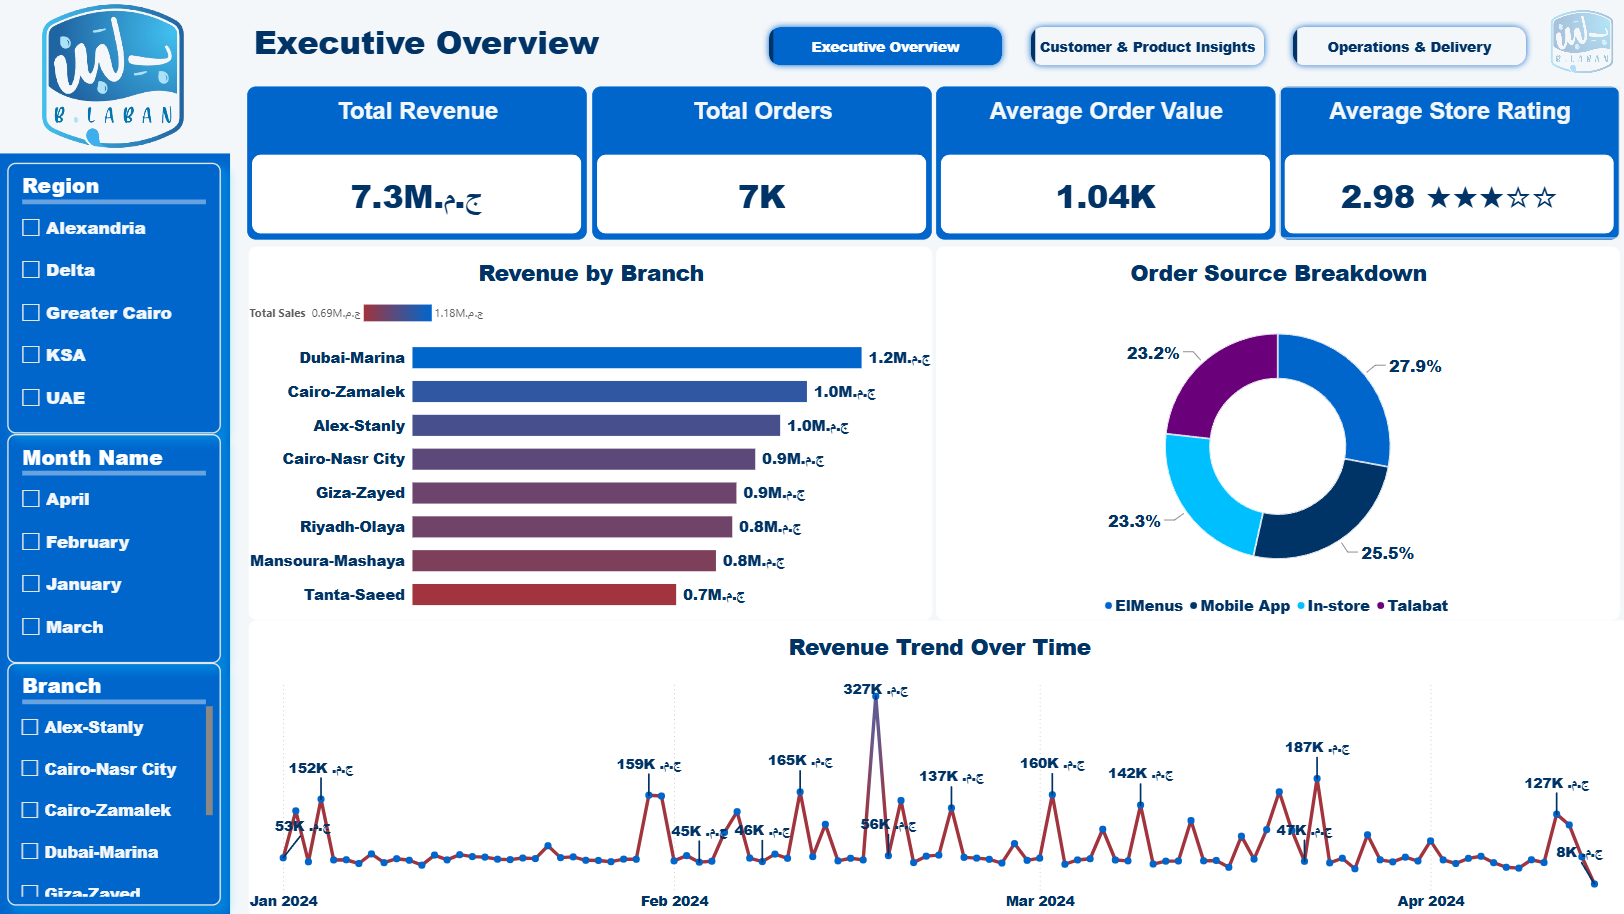

Layout of this report page (visuals, bound fields, positions):
{"tool":"powerbi","page":{"name":"Executive Overview","canvas":[1920,1080],"ordinal":0},"visuals":[{"type":"shape","box":[0,181.4,275.6,898.3],"z":0},{"type":"image","box":[0,0,275.6,181.4],"z":1000},{"type":"image","box":[1808.7,10.5,111.6,80.2],"z":2000},{"type":"textbox","box":[275.6,19.2,462.2,73.3],"z":3000},{"type":"cardVisual","title":"Total Revenue","fields":{"Data":["_All Measure.Total Sales"]},"box":[296.1,103,399.4,179.7],"z":4000},{"type":"cardVisual","title":"Total Orders","fields":{"Data":["_All Measure.Total Orders"]},"box":[700.7,103,399.4,179.7],"z":5000},{"type":"cardVisual","title":"Average Order Value","fields":{"Data":["_All Measure.Average Order Value"]},"box":[1105.4,103,399,179.7],"z":6000},{"type":"cardVisual","title":"Average Store Rating","fields":{"Data":["_All Measure.Rating Stars"]},"box":[1510,103,399,179.7],"z":7000},{"type":"clusteredBarChart","title":"Revenue by Branch","fields":{"Category":["blaban_cleaned_final.Branch"],"Y":["_All Measure.Total Sales"]},"box":[296.5,291.3,804.1,439.5],"z":8000},{"type":"donutChart","title":"Order Source Breakdown","fields":{"Category":["blaban_cleaned_final.Order_Source"],"Y":["_All Measure.Total Sales"]},"box":[1105.8,291.3,804.1,439.5],"z":9000},{"type":"lineChart","title":"Revenue Trend Over Time","fields":{"Y":["_All Measure.Total Sales"],"Category":["blaban_cleaned_final.Full_Date"]},"box":[296.7,729.9,1623.8,348.8],"z":10000},{"type":"slicer","fields":{"Values":["blaban_cleaned_final.Region"]},"box":[12.7,192.9,251.2,318.5],"z":11000},{"type":"slicer","fields":{"Values":["blaban_cleaned_final.Month Name"]},"box":[12.7,511.5,251.2,269.4],"z":12000},{"type":"slicer","fields":{"Values":["blaban_cleaned_final.Branch"]},"box":[12.7,780.9,251.2,285.8],"z":13000},{"type":"pageNavigator","box":[900.5,25.2,908.4,61.5],"z":13001}]}

Visuals, with their boxes in screenshot pixels (x1, y1, x2, y2), scaled from the page's 1920x1080 canvas onto the 1624x914 screenshot:
shape: 0:154:233:913
image: 0:0:233:154
image: 1530:9:1623:77
textbox: 233:16:624:78
"Total Revenue" cardVisual: 250:87:588:239
"Total Orders" cardVisual: 593:87:931:239
"Average Order Value" cardVisual: 935:87:1272:239
"Average Store Rating" cardVisual: 1277:87:1615:239
"Revenue by Branch" clusteredBarChart: 251:247:931:618
"Order Source Breakdown" donutChart: 935:247:1615:618
"Revenue Trend Over Time" lineChart: 251:618:1623:913
slicer - blaban_cleaned_final.Region: 11:163:223:433
slicer - blaban_cleaned_final.Month Name: 11:433:223:661
slicer - blaban_cleaned_final.Branch: 11:661:223:903
pageNavigator: 762:21:1530:73
